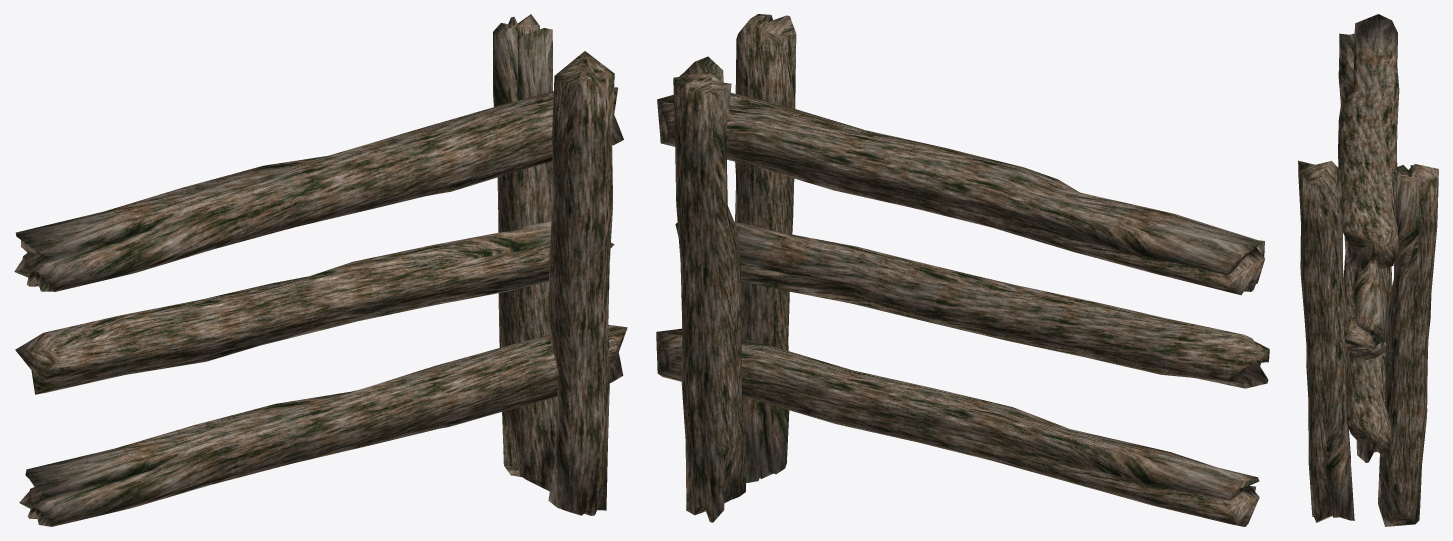
The model's file is Bark_Fence_Objects.fbx.
3 renders of one model, left to right at view 1: azimuth 30°, elevation 25°; view 2: azimuth 150°, elevation 25°; view 3: azimuth 270°, elevation 25°, orthographic. The views are drawn at different scales.
Parts seen in each view (by area): view 1: Cube.003, Cube.004, Cube.002, Cube, Cube.001; view 2: Cube.003, Cube.004, Cube.002, Cube.001, Cube; view 3: Cube, Cube.001, Cube.003, Cube.004, Cube.002.
Part boxes in pixels (<box>): Cube.003: <box>14,87,623,291</box>; Cube.004: <box>19,324,627,526</box>; Cube.002: <box>15,220,614,394</box>; Cube: <box>548,51,614,515</box>; Cube.001: <box>493,14,557,491</box>; Cube.003: <box>657,93,1264,295</box>; Cube.004: <box>656,328,1259,526</box>; Cube.002: <box>675,221,1269,388</box>; Cube.001: <box>673,56,745,522</box>; Cube: <box>735,14,796,483</box>; Cube: <box>1298,160,1354,522</box>; Cube.001: <box>1378,164,1438,526</box>; Cube.003: <box>1338,14,1399,271</box>; Cube.004: <box>1346,266,1392,462</box>; Cube.002: <box>1344,255,1389,360</box>.
Bounding box in the file's own units: 559 × 408 × 142.
